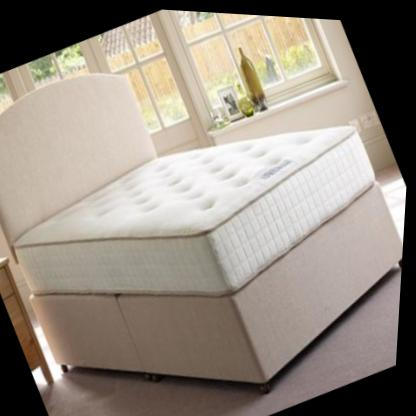Bed: (0, 72, 406, 383)
